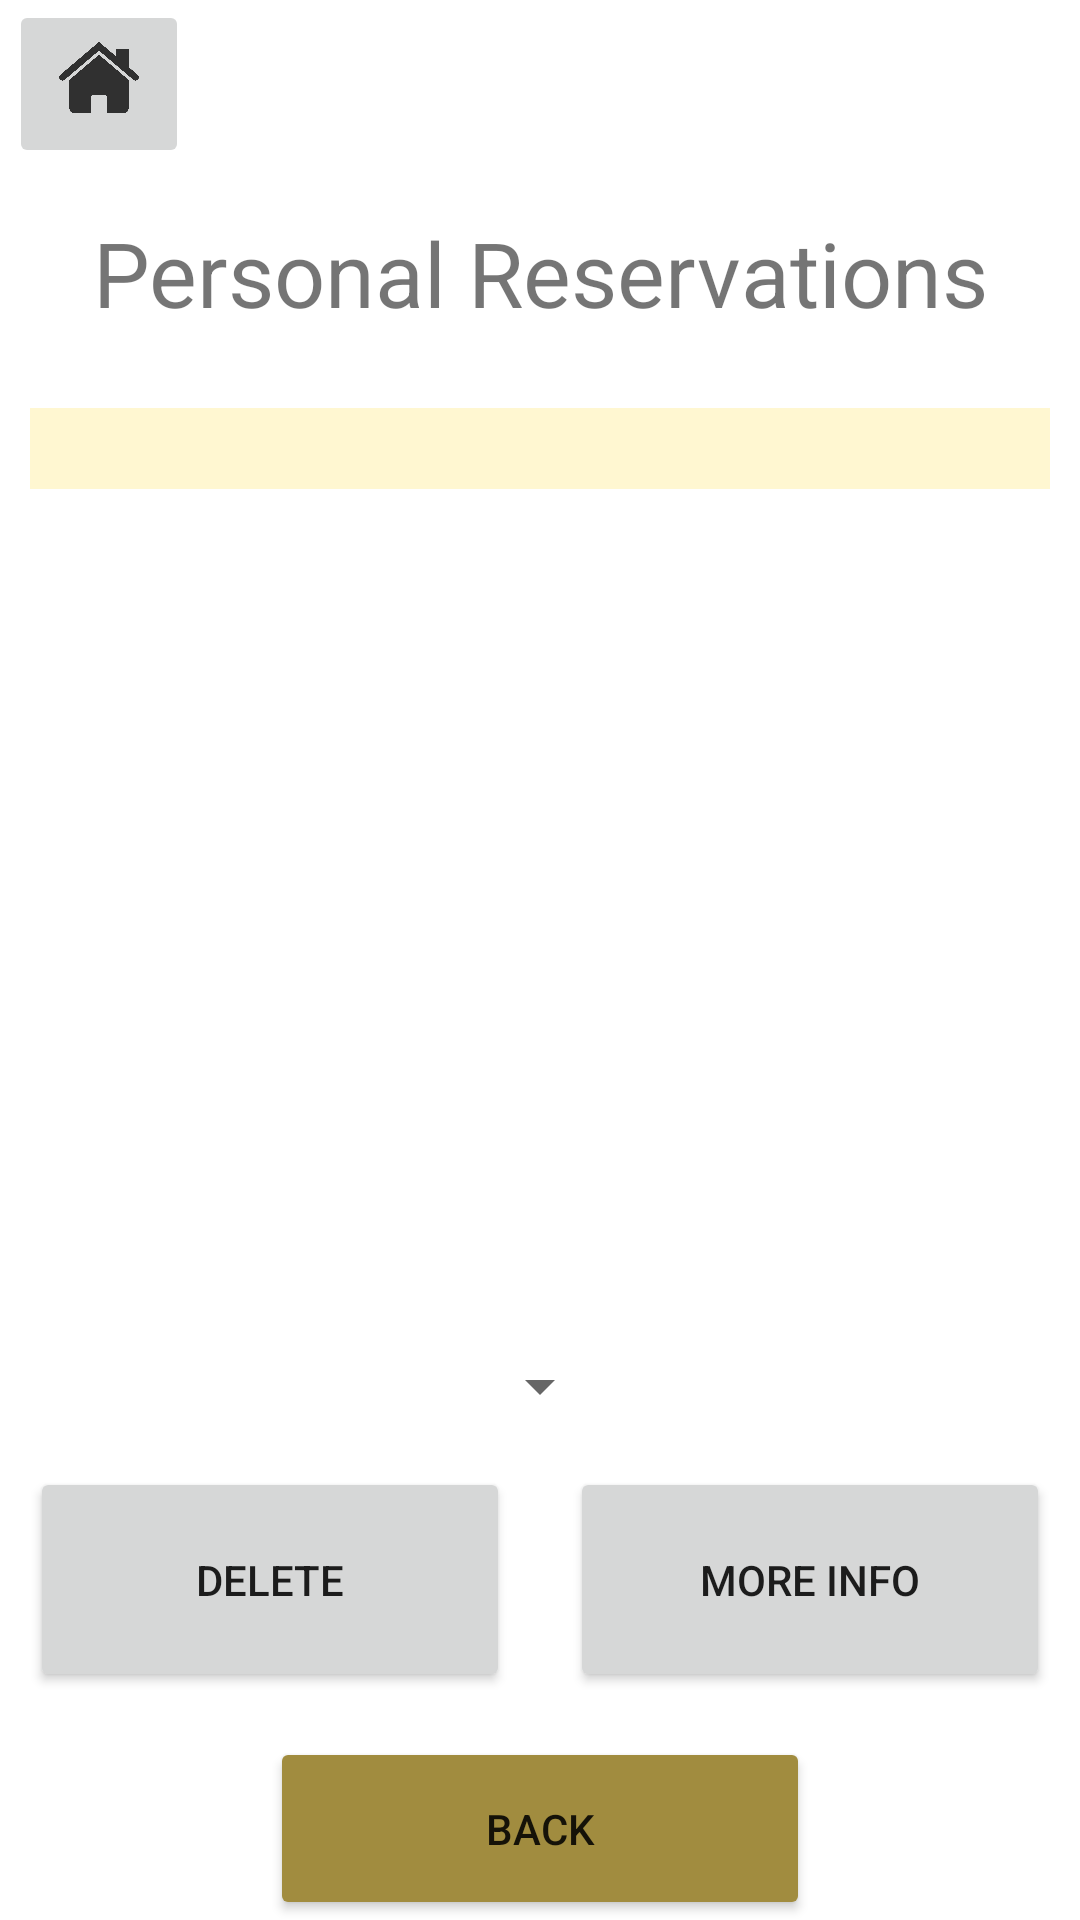

Named icons in this screenshot (1080×1920) and their centers, (x,y):
home: (99,84)
